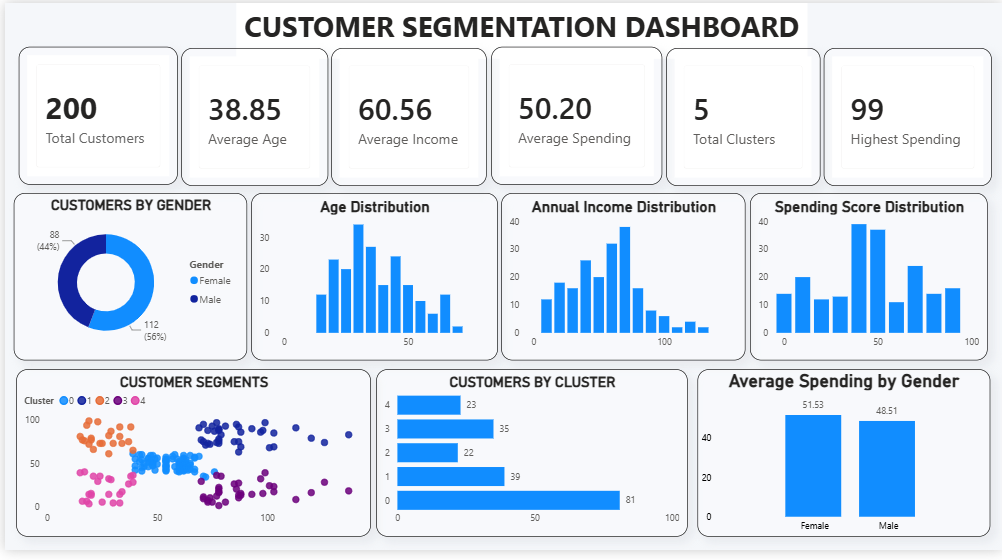

This screenshot's page, from the dashboard's own definition file:
{"tool":"powerbi","page":{"name":"Page 1","canvas":[1330,730],"ordinal":0},"visuals":[{"type":"cardVisual","title":"Total Customers","fields":{"Data":["CountNonNull(clustered_customers.CustomerID)"]},"box":[17.7,58.6,212.3,184],"z":0},{"type":"textbox","box":[308.6,0,761.4,74.3],"z":1000},{"type":"cardVisual","title":"Total Customers","fields":{"Data":["Avg(clustered_customers.Age)"]},"box":[235,60,195.7,184],"z":2000},{"type":"cardVisual","title":"Total Customers","fields":{"Data":["Avg(clustered_customers.AnnualIncome)"]},"box":[435.8,59.8,207.5,184],"z":3000},{"type":"cardVisual","title":"Total Customers","fields":{"Data":["Avg(clustered_customers.SpendingScore)"]},"box":[648.3,58.5,228,184],"z":4000},{"type":"cardVisual","title":"Total Customers","fields":{"Data":["Count(clustered_customers.Cluster)"]},"box":[881.3,60,205.7,184],"z":5000},{"type":"cardVisual","title":"Total Customers","fields":{"Data":["Max(clustered_customers.SpendingScore)"]},"box":[1092,60,224.4,184],"z":6000},{"type":"donutChart","title":"CUSTOMERS BY GENDER","fields":{"Category":["clustered_customers.Gender"],"Y":["CountNonNull(clustered_customers.CustomerID)"]},"box":[12,252.6,311.4,222.9],"z":7000},{"type":"clusteredColumnChart","title":"Age Distribution","fields":{"Y":["CountNonNull(clustered_customers.CustomerID)"],"Category":["clustered_customers.Age (bins)"]},"box":[328.7,252.6,328.6,222.9],"z":8000},{"type":"clusteredColumnChart","title":"Annual Income Distribution","fields":{"Y":["CountNonNull(clustered_customers.CustomerID)"],"Category":["clustered_customers.AnnualIncome (bins)"]},"box":[662.5,252.6,325.7,222.9],"z":9000},{"type":"clusteredColumnChart","title":"Spending Score Distribution","fields":{"Y":["CountNonNull(clustered_customers.CustomerID)"],"Category":["clustered_customers.SpendingScore (bins)"]},"box":[993.4,252.6,317.1,222.9],"z":10000},{"type":"scatterChart","title":"CUSTOMER SEGMENTS","fields":{"Y":["clustered_customers.SpendingScore"],"X":["clustered_customers.AnnualIncome"],"Series":["clustered_customers.Cluster"]},"box":[14.3,488.6,472.9,222.9],"z":11000},{"type":"clusteredBarChart","title":"CUSTOMERS BY CLUSTER","fields":{"Y":["CountNonNull(clustered_customers.CustomerID)"],"Category":["clustered_customers.Cluster"]},"box":[495.7,488.6,415,222.9],"z":12000},{"type":"clusteredColumnChart","title":"Average Spending by Gender","fields":{"Category":["clustered_customers.Gender"],"Y":["Avg(clustered_customers.SpendingScore)"]},"box":[922.9,488.6,390,222.9],"z":12001}]}

Visuals, with their boxes in screenshot pixels (x1, y1, x2, y2), scaled from the page's 1330x730 canvas onto the 1002x560 screenshot:
"Total Customers" cardVisual: bbox=[13, 45, 173, 186]
textbox: bbox=[232, 0, 806, 57]
"Total Customers" cardVisual: bbox=[177, 46, 324, 187]
"Total Customers" cardVisual: bbox=[328, 46, 485, 187]
"Total Customers" cardVisual: bbox=[488, 45, 660, 186]
"Total Customers" cardVisual: bbox=[664, 46, 819, 187]
"Total Customers" cardVisual: bbox=[823, 46, 992, 187]
"CUSTOMERS BY GENDER" donutChart: bbox=[9, 194, 244, 365]
"Age Distribution" clusteredColumnChart: bbox=[248, 194, 495, 365]
"Annual Income Distribution" clusteredColumnChart: bbox=[499, 194, 744, 365]
"Spending Score Distribution" clusteredColumnChart: bbox=[748, 194, 987, 365]
"CUSTOMER SEGMENTS" scatterChart: bbox=[11, 375, 367, 546]
"CUSTOMERS BY CLUSTER" clusteredBarChart: bbox=[373, 375, 686, 546]
"Average Spending by Gender" clusteredColumnChart: bbox=[695, 375, 989, 546]
